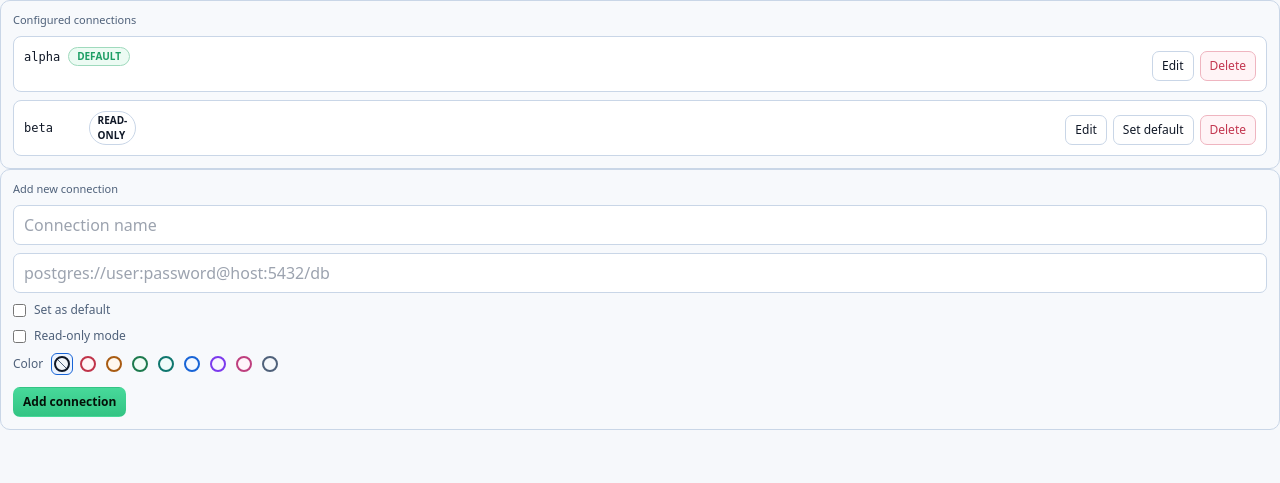
Test: ConnectionsSection › shows the error message when create fails
Expected: the text "alpha" is shown, [24,49,60,65]
Type "gamma" into the field with placeholder "Connection name" at point(640, 225), box [13,205,1267,245]
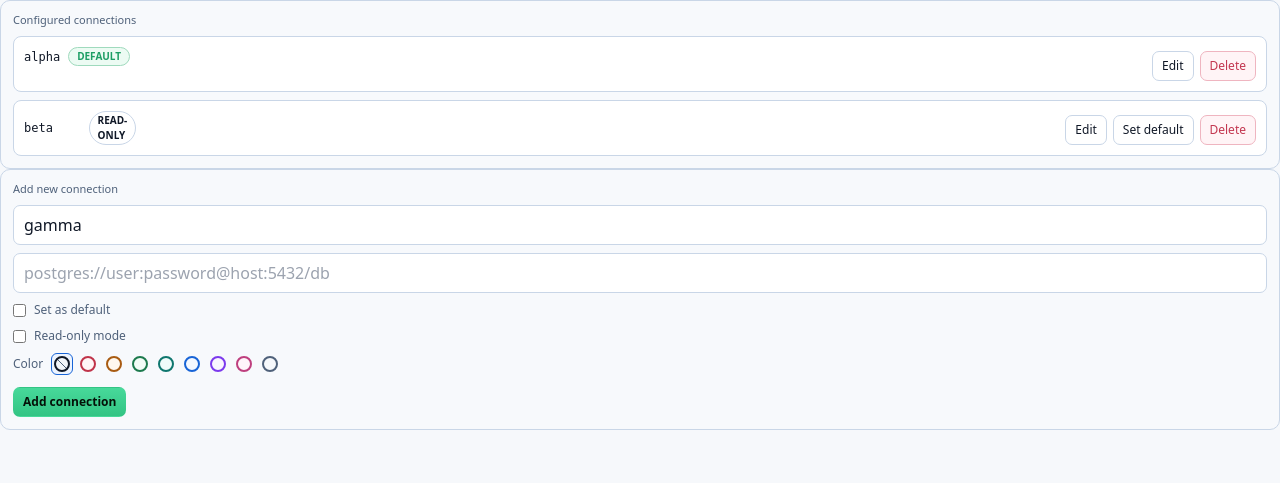
Type "postgres://g" into the field with placeholder "postgres://user:password@host:5432/db" at point(640, 273), box [13,253,1267,293]
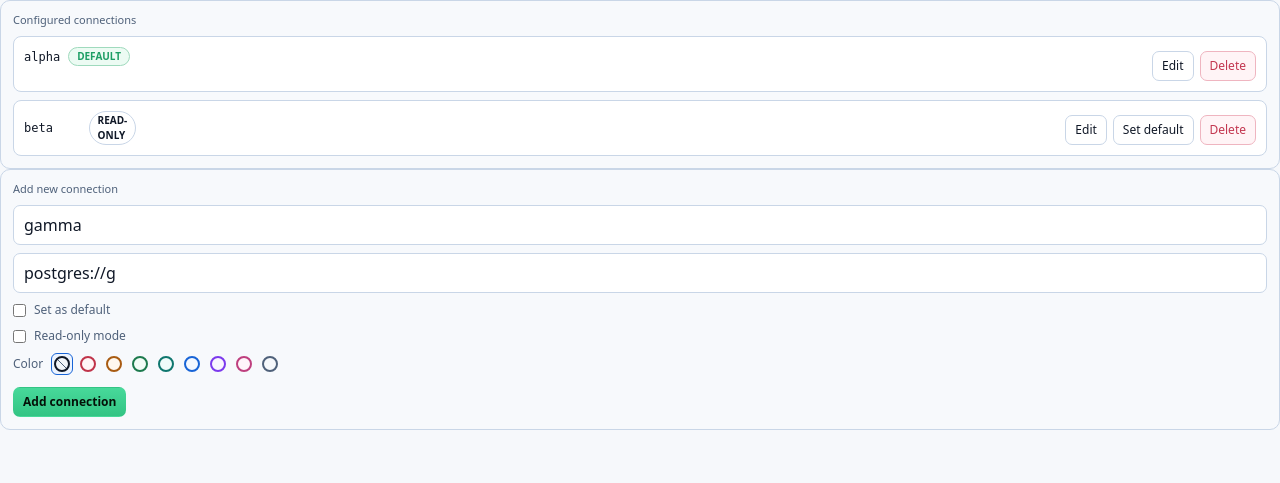
Click the button "Add connection" at point(70, 402), box [13,387,126,417]
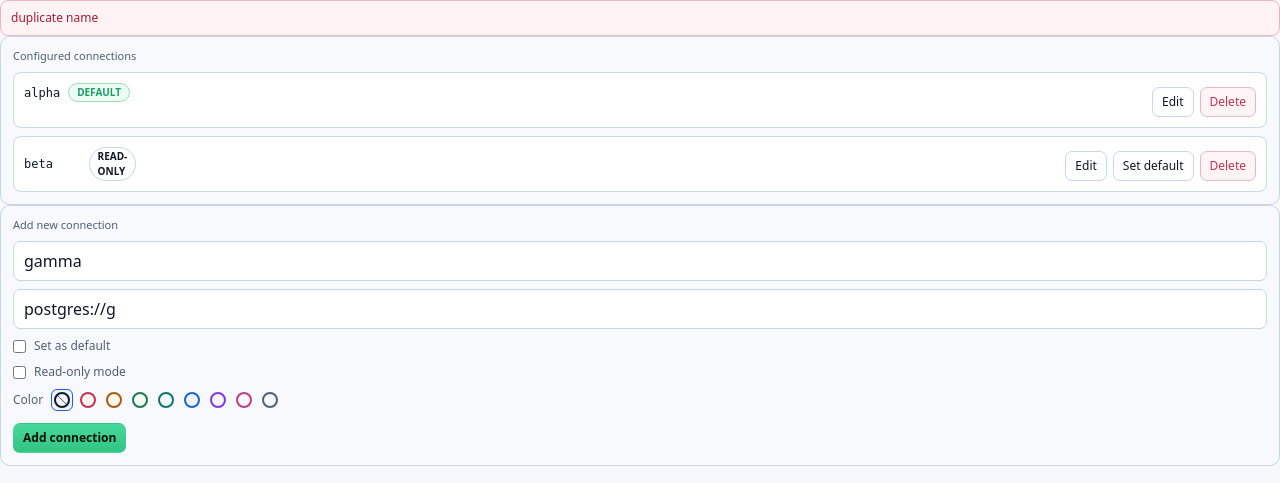
Expected: the text "duplicate name" is shown, [0,0,1279,36]
